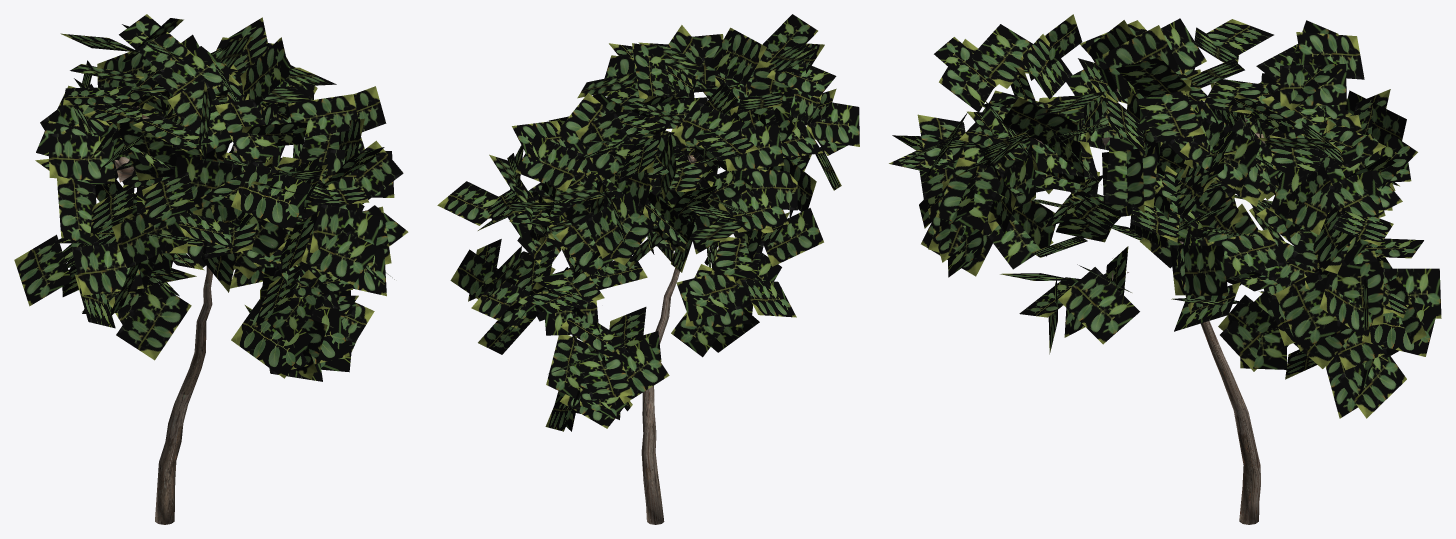
Rendered from tree-compact-01-lod1.glb.
3 views of the same model, side by side, from view 1: azimuth 30°, elevation 25°; view 2: azimuth 150°, elevation 25°; view 3: azimuth 270°, elevation 25° (orthographic). The views are drawn at different scales.
Visible parts, largest first — view 1: tree-compact-01_MATERIAL_BATCH; view 2: tree-compact-01_MATERIAL_BATCH; view 3: tree-compact-01_MATERIAL_BATCH.
Boxes of the visible parts, x1,y1,x2,y2 form: tree-compact-01_MATERIAL_BATCH: (14,14,408,524); tree-compact-01_MATERIAL_BATCH: (437,14,859,524); tree-compact-01_MATERIAL_BATCH: (889,14,1441,524).
Size of the model in its own units: 5.46 by 7.79 by 7.83.
Materials: 3 (3 with a texture image).
